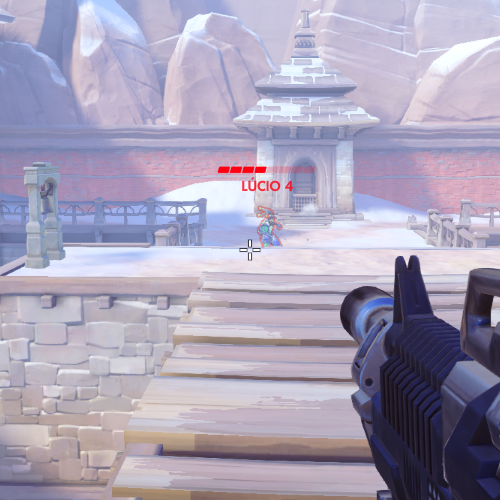hpbar: (218, 166, 317, 174)
